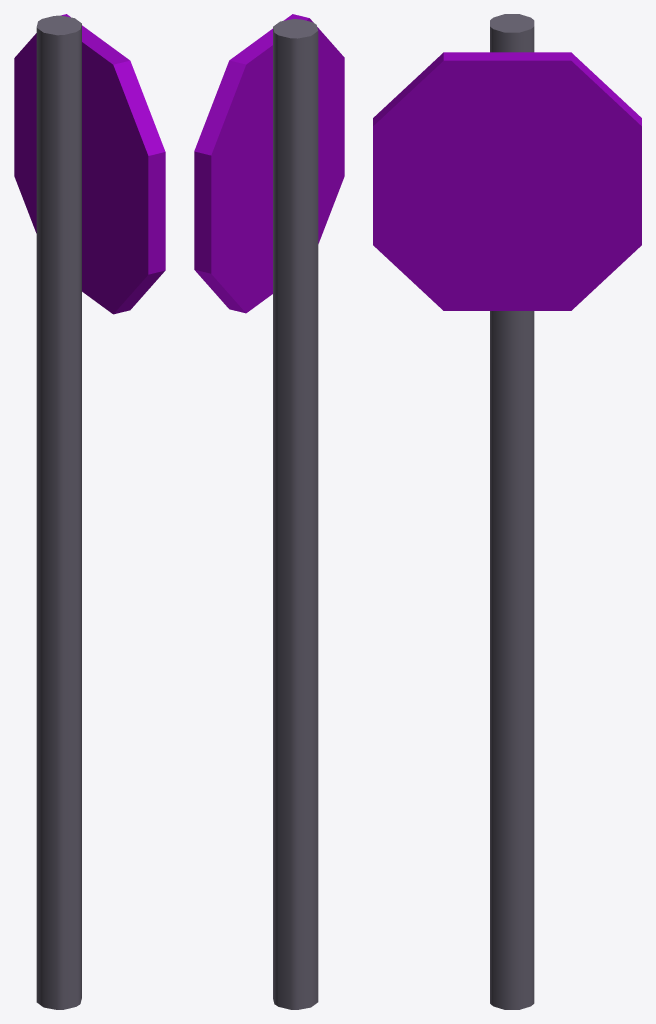
The model's file is Stop_Sign.fbx.
3 views of the same model, side by side, from view 1: azimuth 30°, elevation 25°; view 2: azimuth 150°, elevation 25°; view 3: azimuth 270°, elevation 25° (orthographic).
Parts seen in each view (by area): view 1: Stop_Sign; view 2: Stop_Sign; view 3: Stop_Sign.
Part boxes in pixels (left/top/right/bottom): Stop_Sign: left=14, top=14, right=165, bottom=1009; Stop_Sign: left=194, top=14, right=344, bottom=1009; Stop_Sign: left=373, top=14, right=641, bottom=1009.
Size of the model in its own units: 0.1594 by 2.65 by 0.6592.
